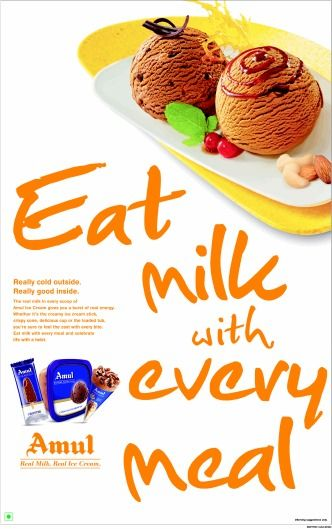Amul: (22, 430, 99, 457)
